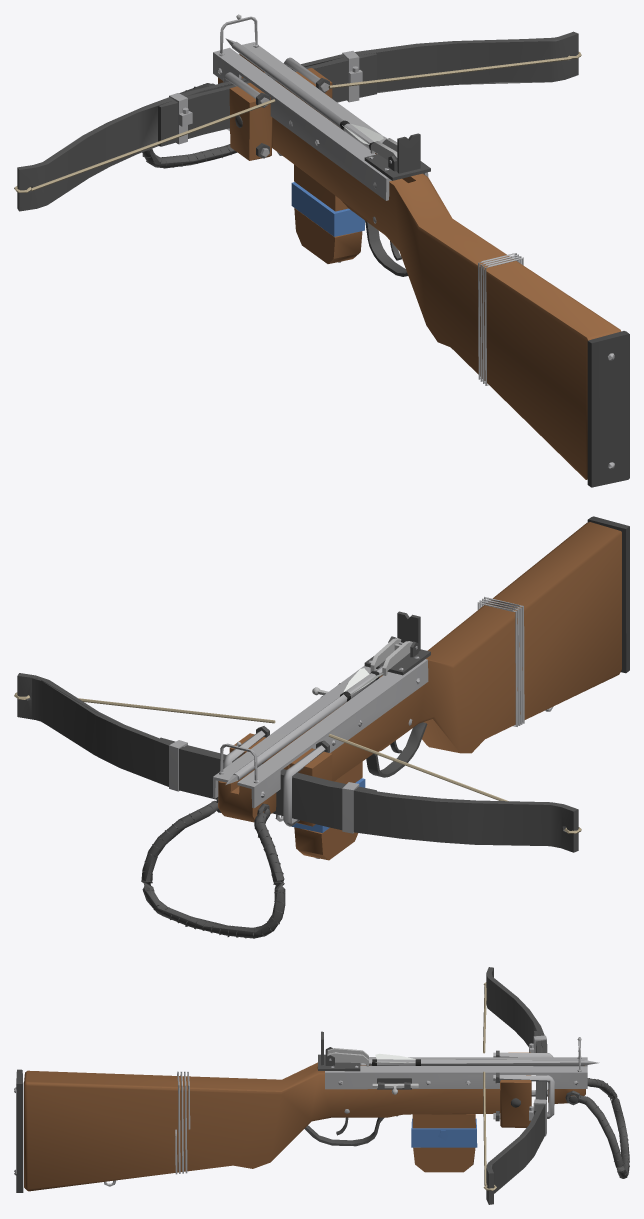
Rendered from crossbow_lod1.glb.
The picture shows the model from 3 angles, top to bottom: view 1: azimuth 30°, elevation 25°; view 2: azimuth 150°, elevation 25°; view 3: azimuth 270°, elevation 25°; orthographic projection. The views are drawn at different scales.
Parts seen in each view (by area): view 1: Wood, Iron, Steel, Rubber, Rope, Blue; view 2: Wood, Iron, Steel, Rope, Rubber, Worn; view 3: Wood, Steel, Iron, Blue, Rubber, Worn, Rope.
Boxes of the visible parts, bbox=[...] form: Wood: bbox=[218, 54, 620, 479]; Iron: bbox=[17, 31, 578, 276]; Steel: bbox=[169, 16, 614, 469]; Rubber: bbox=[587, 331, 629, 487]; Rope: bbox=[14, 52, 581, 193]; Blue: bbox=[291, 182, 364, 236]; Wood: bbox=[218, 522, 621, 860]; Iron: bbox=[17, 611, 578, 938]; Steel: bbox=[169, 596, 553, 858]; Rope: bbox=[14, 692, 581, 833]; Rubber: bbox=[587, 516, 629, 673]; Worn: bbox=[236, 638, 412, 746]; Wood: bbox=[24, 1052, 585, 1191]; Steel: bbox=[14, 1035, 599, 1186]; Iron: bbox=[304, 967, 629, 1204]; Blue: bbox=[411, 1118, 477, 1147]; Rubber: bbox=[16, 1069, 23, 1192]; Worn: bbox=[327, 1037, 581, 1094]; Rope: bbox=[483, 982, 496, 1190].
Bounding box in the file's own units: 0.6196 × 0.2096 × 0.7734.
